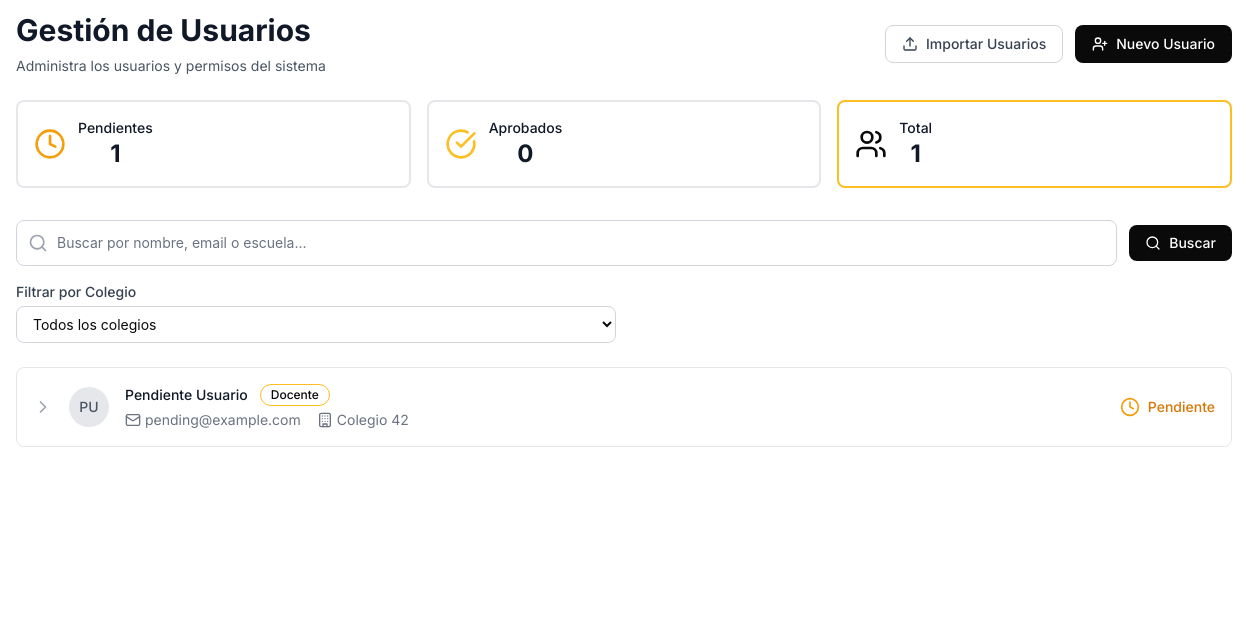
Scenario: UnifiedUserManagement — ED-scoped props › hideApprove + hideReject: pending user actions omit Aprobar and Rechazar buttons
The image size is (1249, 621).
Click the heading "Pendiente Usuario" at coordinates (186, 395), box 125,385 -> 248,405
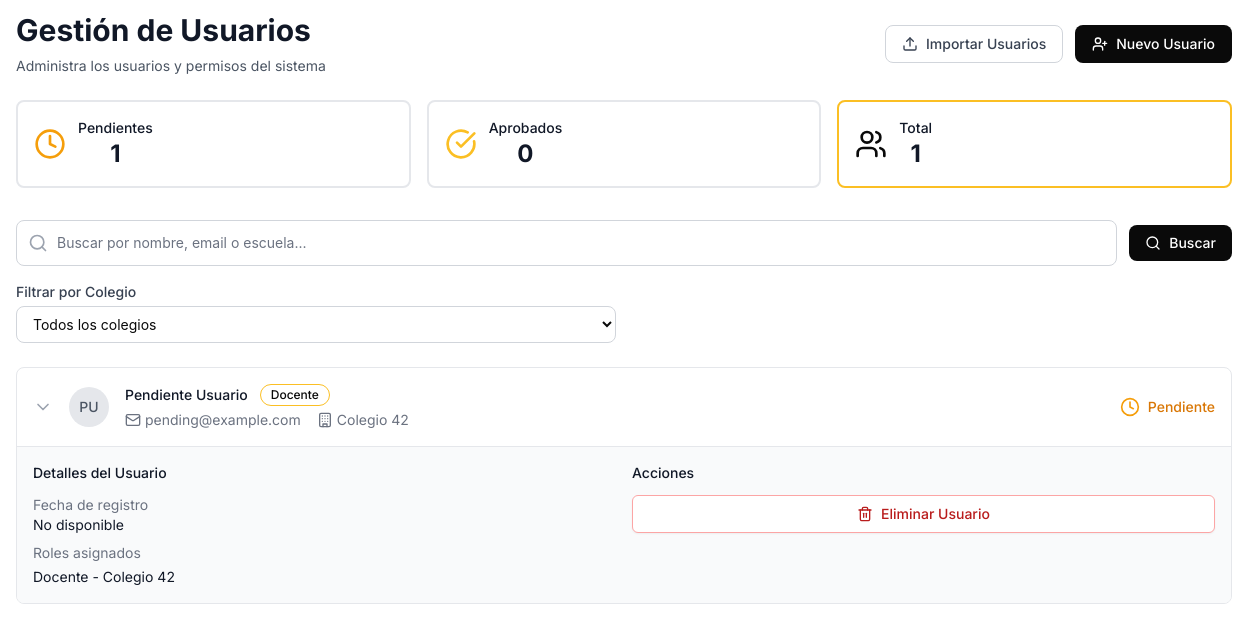
Check: the button "Eliminar Usuario" is shown, box 632,495 -> 1215,533
